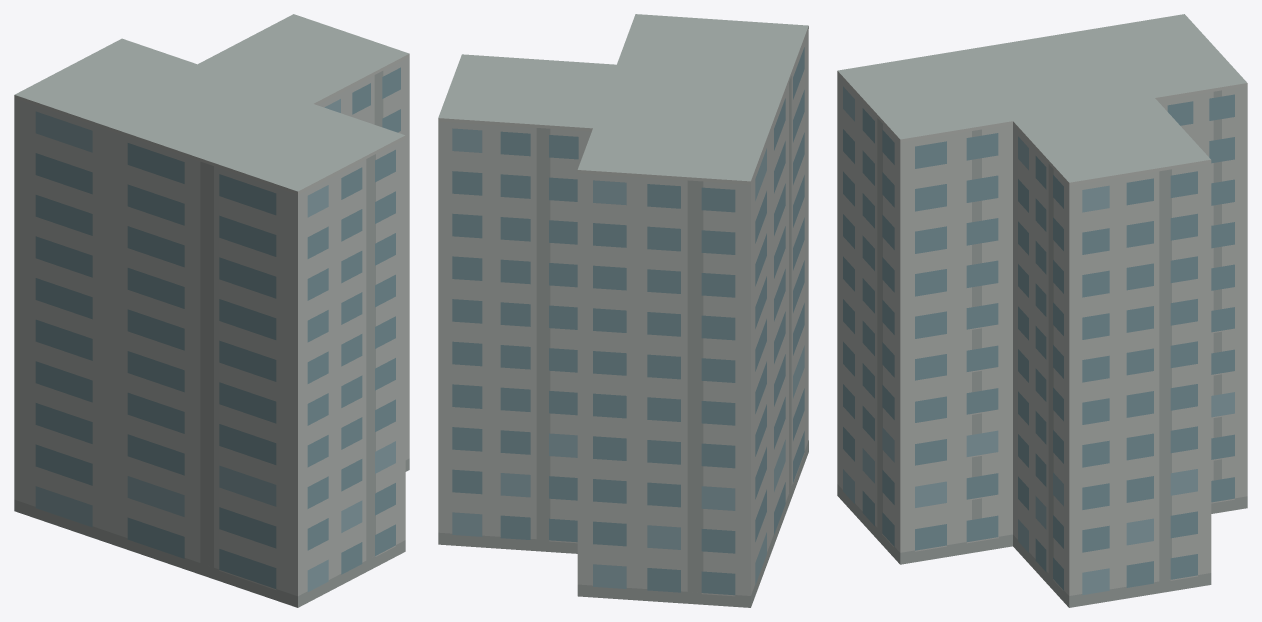
The model's file is residential-16d0809c-02f0-498c-9378-cfd5c301f033.glb.
The picture shows the model from 3 angles, left to right: view 1: azimuth 30°, elevation 25°; view 2: azimuth 150°, elevation 25°; view 3: azimuth 270°, elevation 25°; orthographic projection. The views are drawn at different scales.
Parts seen in each view (by area): view 1: residential-16d0809c-02f0-498c-9378-cfd5c301f033.tmp; view 2: residential-16d0809c-02f0-498c-9378-cfd5c301f033.tmp; view 3: residential-16d0809c-02f0-498c-9378-cfd5c301f033.tmp.
Boxes of the visible parts, bbox=[...] form: residential-16d0809c-02f0-498c-9378-cfd5c301f033.tmp: bbox=[14, 14, 409, 607]; residential-16d0809c-02f0-498c-9378-cfd5c301f033.tmp: bbox=[438, 14, 808, 607]; residential-16d0809c-02f0-498c-9378-cfd5c301f033.tmp: bbox=[837, 14, 1247, 607].
Size of the model in its own units: 27.25 by 32 by 27.99.
